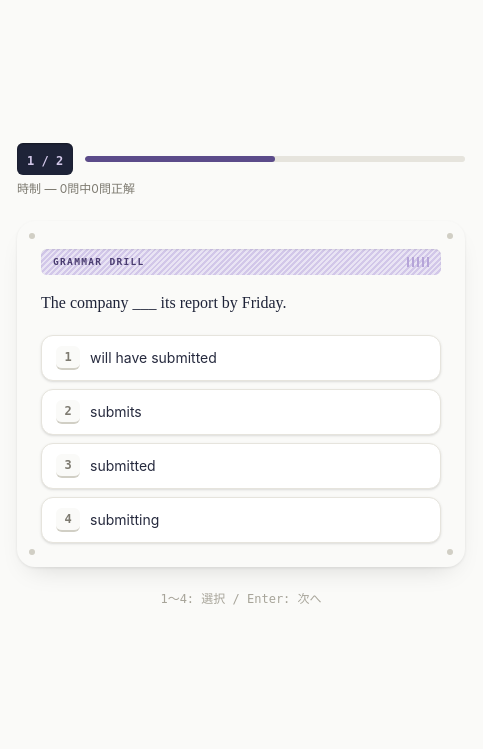
Test case: GrammarDrill › measures elapsed time from session start to completion and shows it in the summary (28章)
Click the button "1 will have submitted": x=153, y=358 [41,335,441,381]
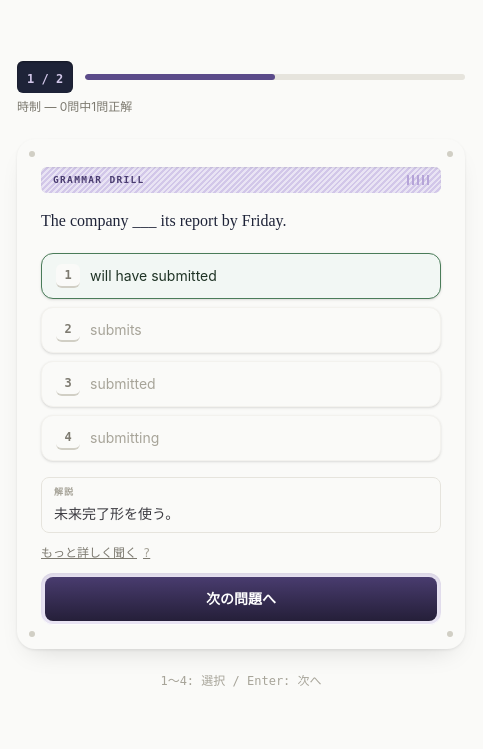
Click the button "次の問題へ": x=241, y=599 [45,577,437,621]
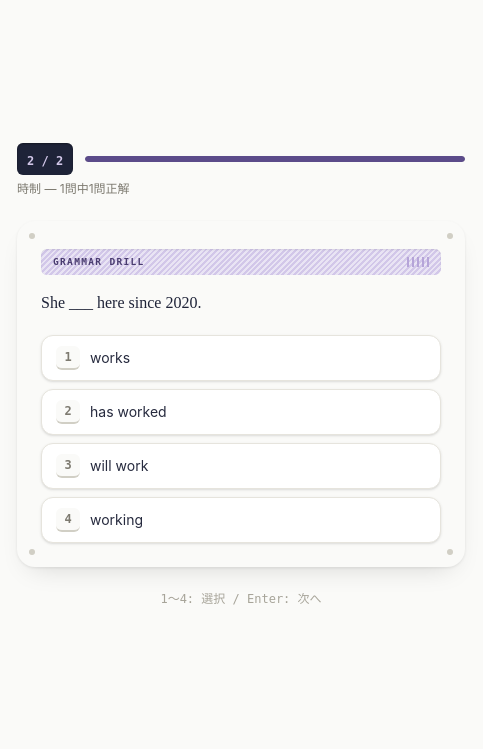
Check: the text "She ___ here since 2020." is shown, box [41,294,201,311]
Click the button "2 has worked": x=128, y=412 [41,389,441,435]
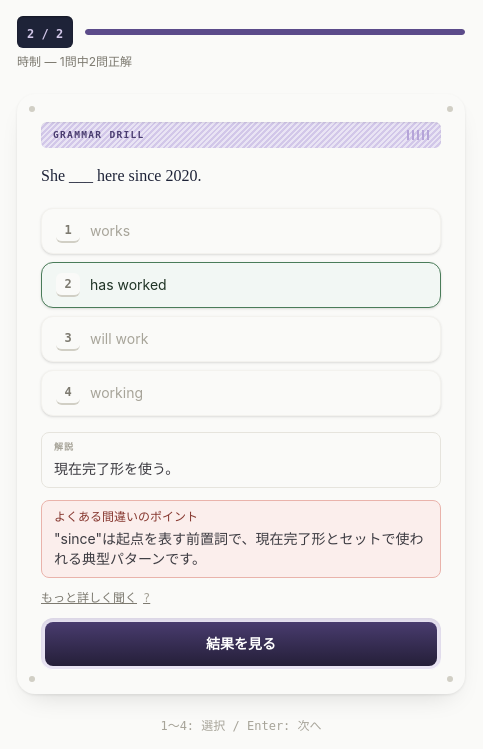
Click the button "結果を見る": x=241, y=644 [45,622,437,666]
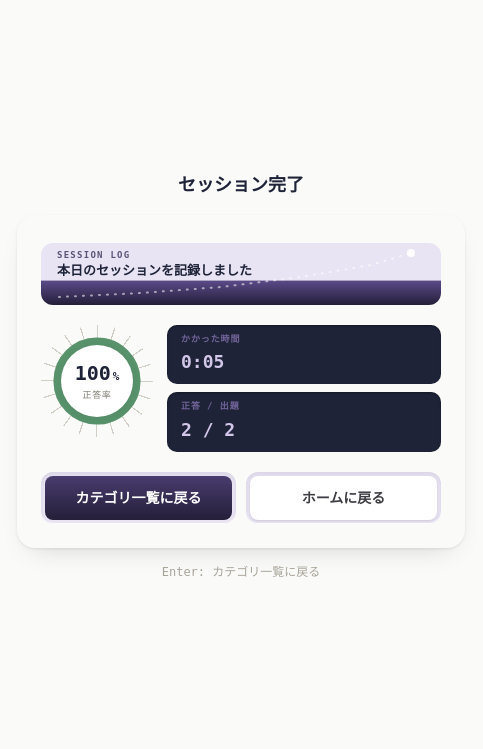
Check: the text "セッション完了" is shown, box [178,170,304,198]
Check: the text "0:05" is shown, box [181,351,224,372]
